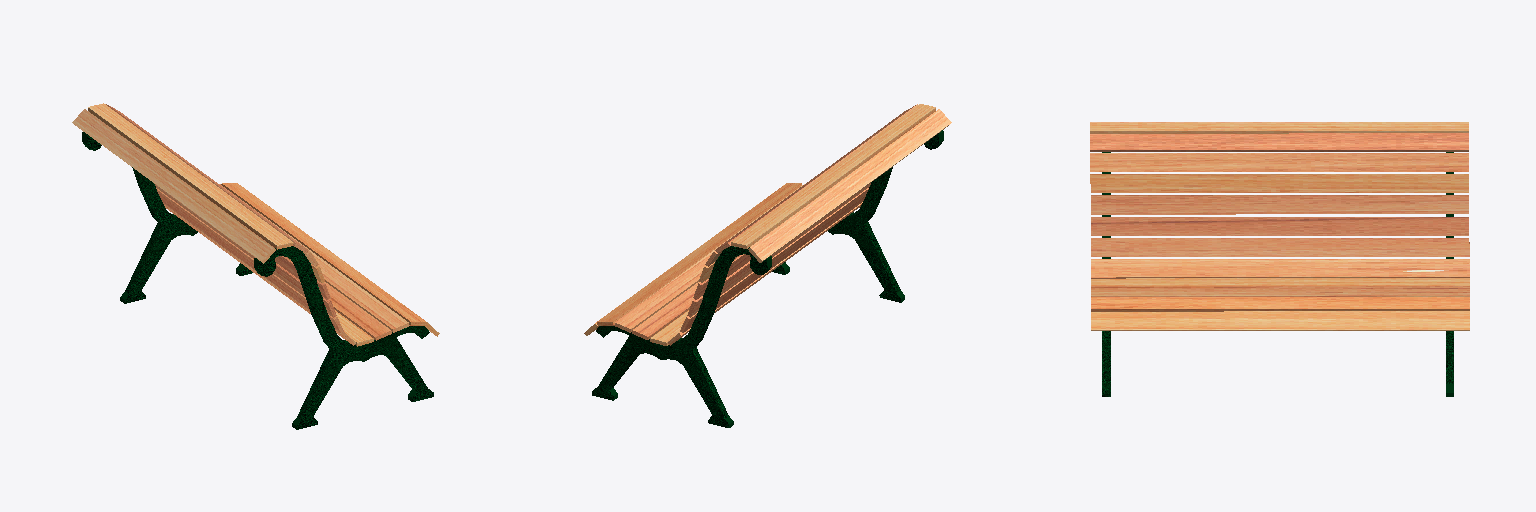
The picture shows the model from 3 angles: view 1: azimuth 30°, elevation 25°; view 2: azimuth 150°, elevation 25°; view 3: azimuth 270°, elevation 25°; orthographic projection.
Parts seen in each view (by area): view 1: Object_5_Madera, Object_4_Metal; view 2: Object_5_Madera, Object_4_Metal; view 3: Object_5_Madera, Object_4_Metal.
Boxes of the visible parts, box(x1,y1,x2,y2) form: Object_5_Madera: box(72, 103, 439, 346); Object_4_Metal: box(82, 132, 433, 429); Object_5_Madera: box(584, 104, 951, 345); Object_4_Metal: box(592, 130, 943, 427); Object_5_Madera: box(1090, 122, 1469, 330); Object_4_Metal: box(1102, 152, 1453, 396).
Size of the model in its own units: 0.2438 by 0.2552 by 0.4487.
Materials: 2 (2 with a texture image).